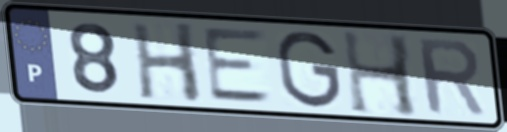8: (66, 20, 124, 95)
E: (200, 26, 277, 106)
G: (273, 28, 344, 111)
H: (338, 27, 423, 120), (127, 20, 205, 106)
R: (413, 36, 490, 119)
